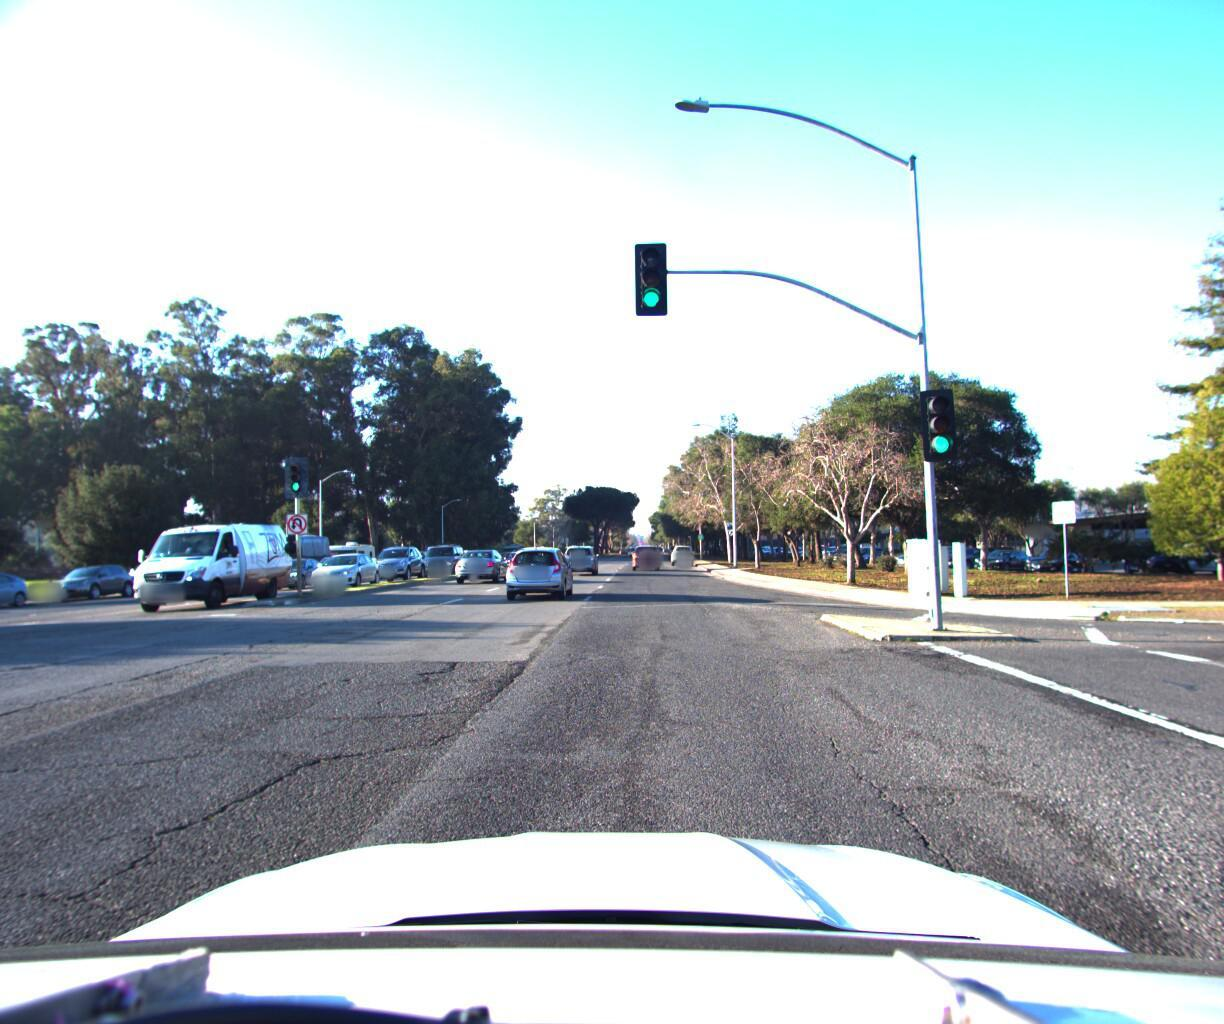bus: (233, 527, 335, 584)
car: (502, 540, 576, 597), (43, 559, 143, 601), (116, 553, 209, 597), (307, 546, 388, 589), (363, 539, 431, 580), (452, 542, 511, 579), (417, 538, 469, 573), (562, 538, 601, 570), (631, 539, 661, 565), (668, 536, 693, 560)
other_vehicle: (115, 513, 298, 614), (318, 535, 379, 575)
